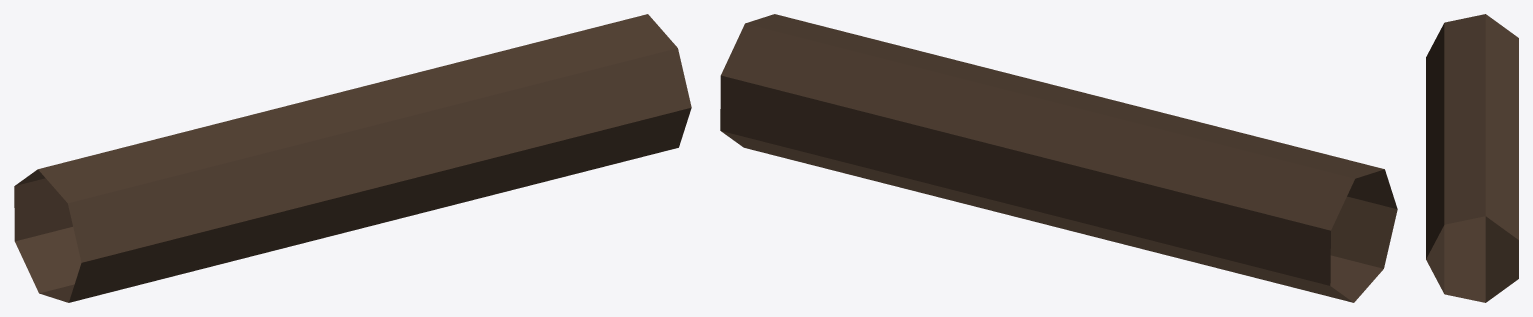
File: fr_log.glb
3 views of the same model, side by side, from view 1: azimuth 30°, elevation 25°; view 2: azimuth 150°, elevation 25°; view 3: azimuth 270°, elevation 25° (orthographic). The views are drawn at different scales.
Parts seen in each view (by area): view 1: fr_log; view 2: fr_log; view 3: fr_log.
Part boxes in pixels (box(x1,y1,x2,y2)): fr_log: box(14, 14, 691, 302); fr_log: box(720, 14, 1397, 302); fr_log: box(1426, 14, 1518, 302).
Bounding box in the file's own units: 2 × 0.41 × 0.3802.
